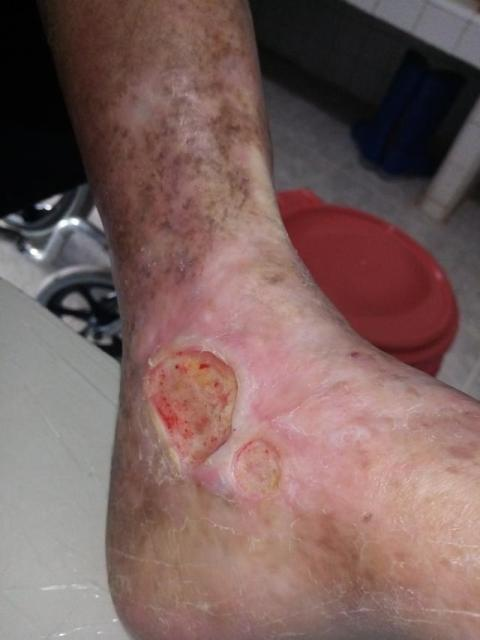wound: (139, 341, 238, 478), (231, 438, 284, 500)
